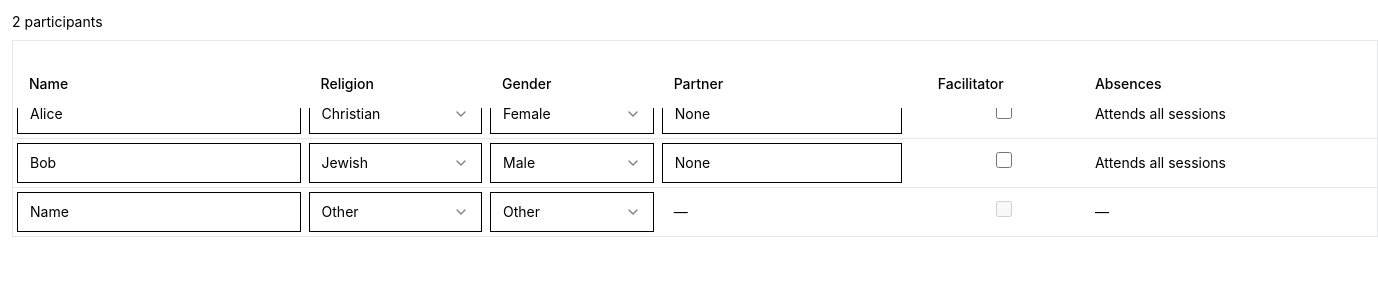
Test case: RosterGrid › unique names › does not save a name someone else already has
Replace the text in the 2nd field showing "Bob" with "alice " at point(159, 162), box [17, 142, 301, 182]
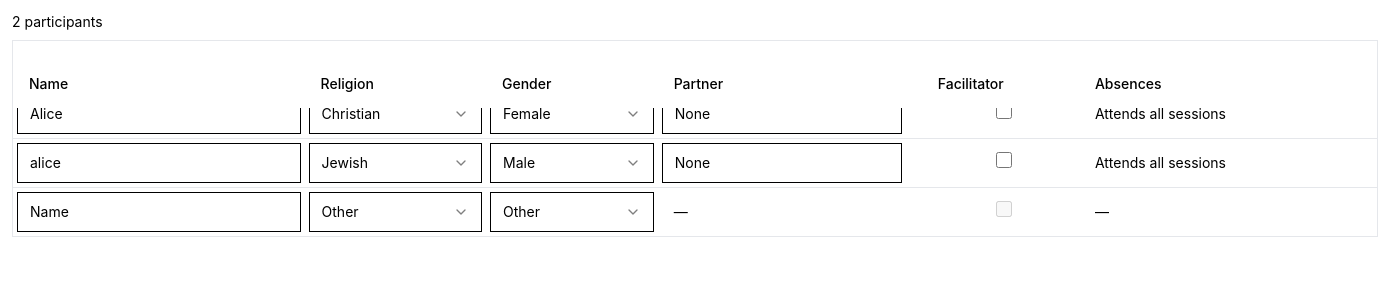
Leave the 2nd field showing "Bob", box [17, 142, 301, 182]
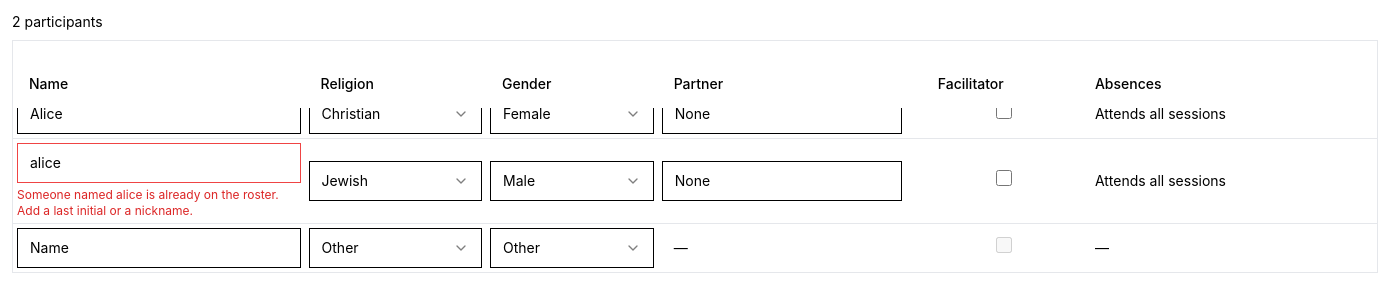
Now the text "already on the roster" is shown, box [17, 186, 279, 218]
